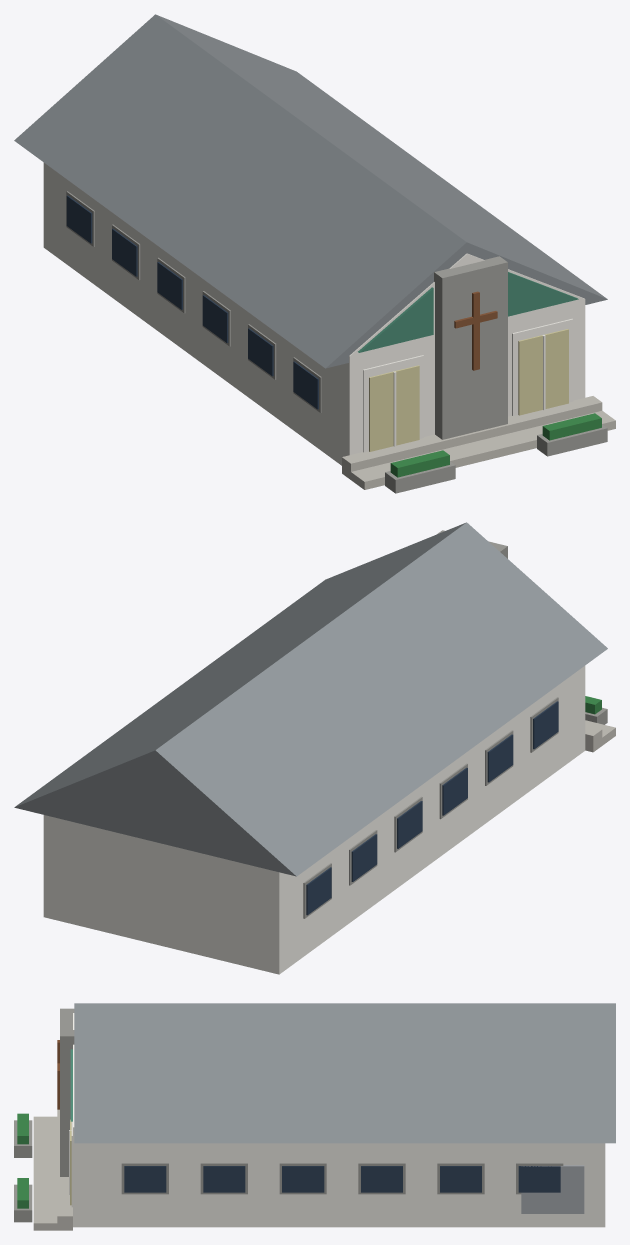
Rendered from LM_FeastCarmonaChurch.glb.
3 renders of one model, top to bottom at view 1: azimuth 30°, elevation 25°; view 2: azimuth 150°, elevation 25°; view 3: azimuth 270°, elevation 25°, orthographic. The views are drawn at different scales.
Parts seen in each view (by area): view 1: LM_FeastCarmonaChurch; view 2: LM_FeastCarmonaChurch; view 3: LM_FeastCarmonaChurch.
Part boxes in pixels (box(x1,y1,x2,y2)): LM_FeastCarmonaChurch: box(14, 14, 615, 493); LM_FeastCarmonaChurch: box(14, 522, 615, 974); LM_FeastCarmonaChurch: box(14, 1003, 615, 1230).
Bounding box in the file's own units: 10.8 × 7.3 × 22.9.
